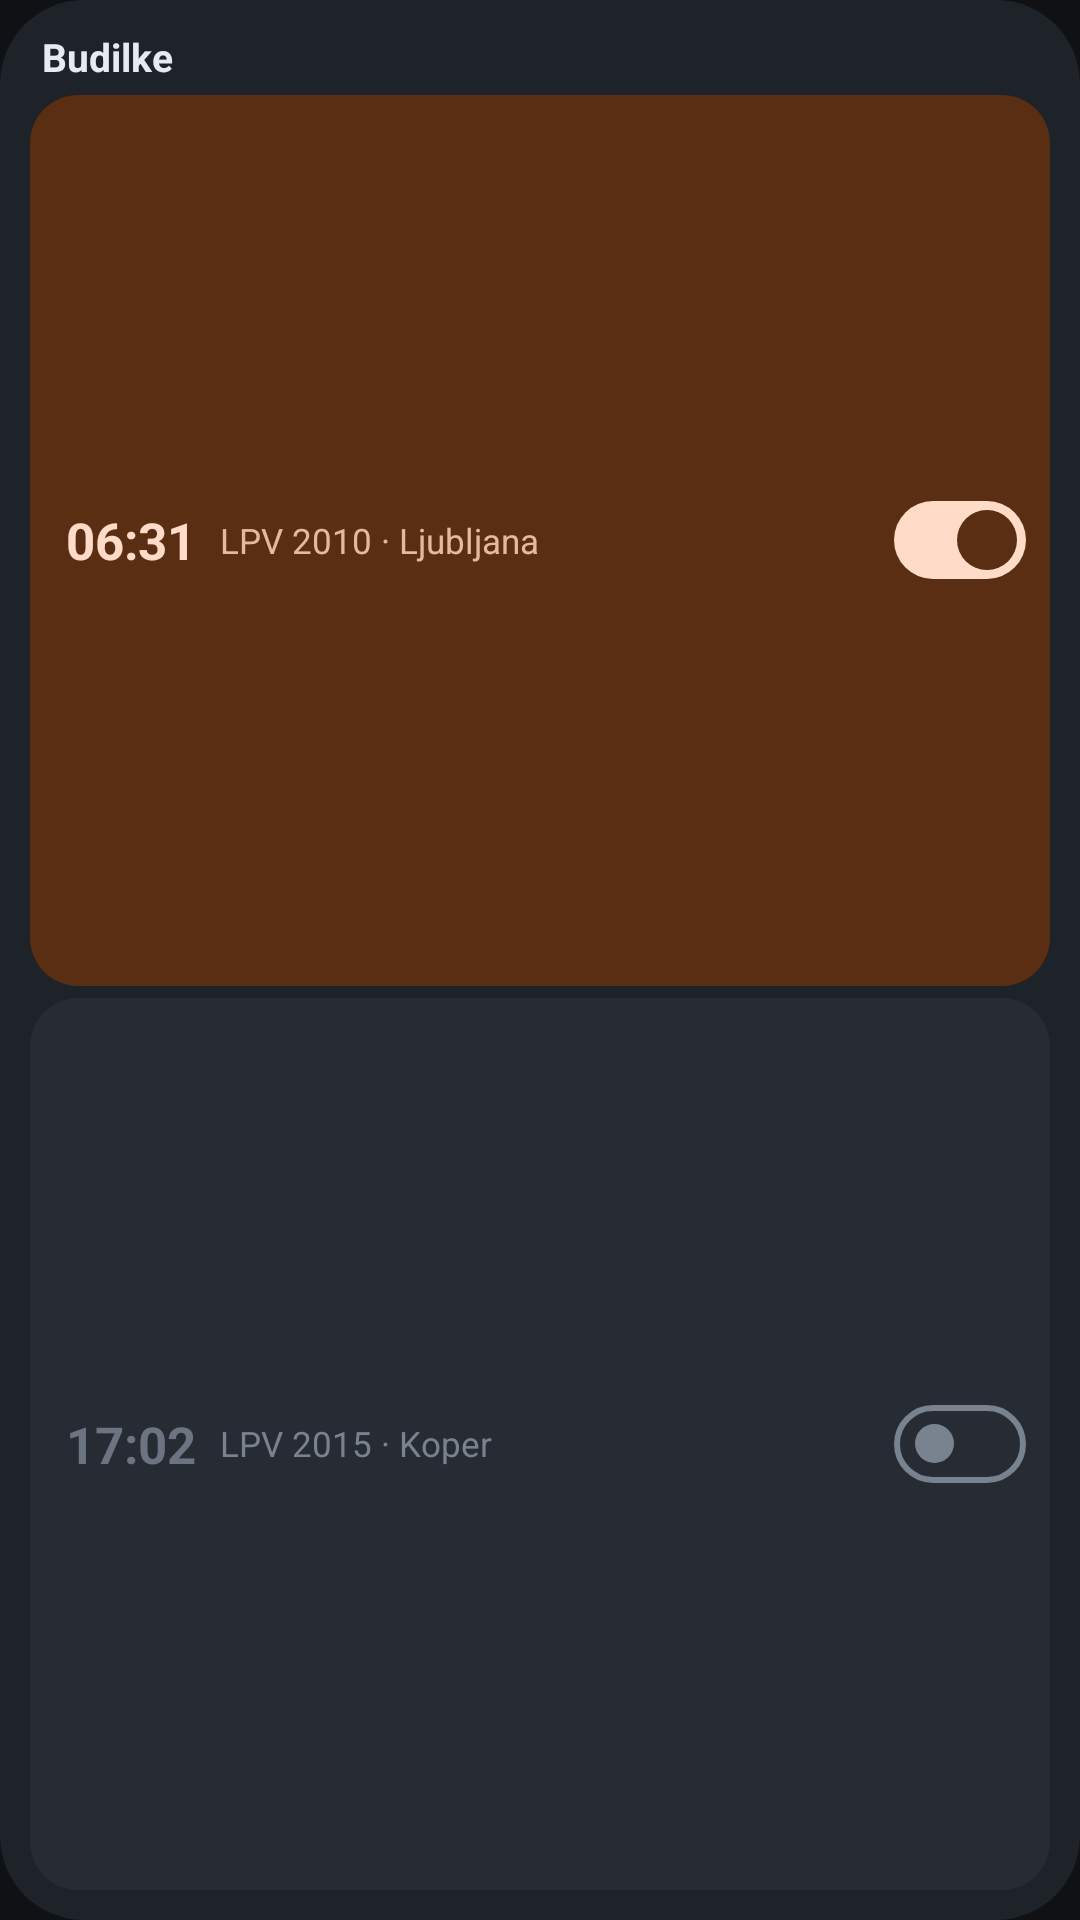

Icons on this 1080x1920 Android screen, each with its box as (x1, y1, x2, y2):
stikalo slika izklop: (894, 1405, 1026, 1483)
stikalo slika vklop: (894, 501, 1026, 579)
